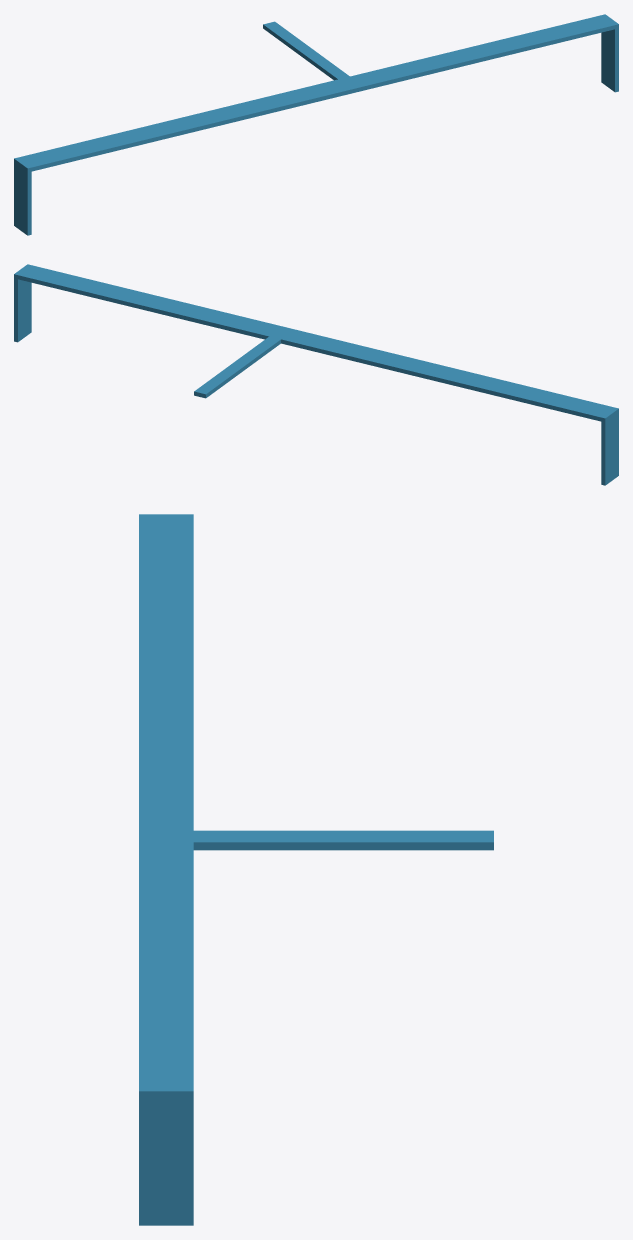
The model's file is LOBBY_VM_08_WATER_6c3d02.fbx.
3 renders of one model, top to bottom at view 1: azimuth 30°, elevation 25°; view 2: azimuth 150°, elevation 25°; view 3: azimuth 270°, elevation 25°, orthographic. The views are drawn at different scales.
Visible parts, largest first — view 1: VM_Water_Canal__Water_VM; view 2: VM_Water_Canal__Water_VM; view 3: VM_Water_Canal__Water_VM.
Boxes of the visible parts, left/top/right/bottom form: VM_Water_Canal__Water_VM: left=14, top=14, right=618, bottom=235; VM_Water_Canal__Water_VM: left=14, top=264, right=618, bottom=485; VM_Water_Canal__Water_VM: left=139, top=514, right=493, bottom=1225.
Bounding box in the file's own units: 300 × 32.6 × 78.
